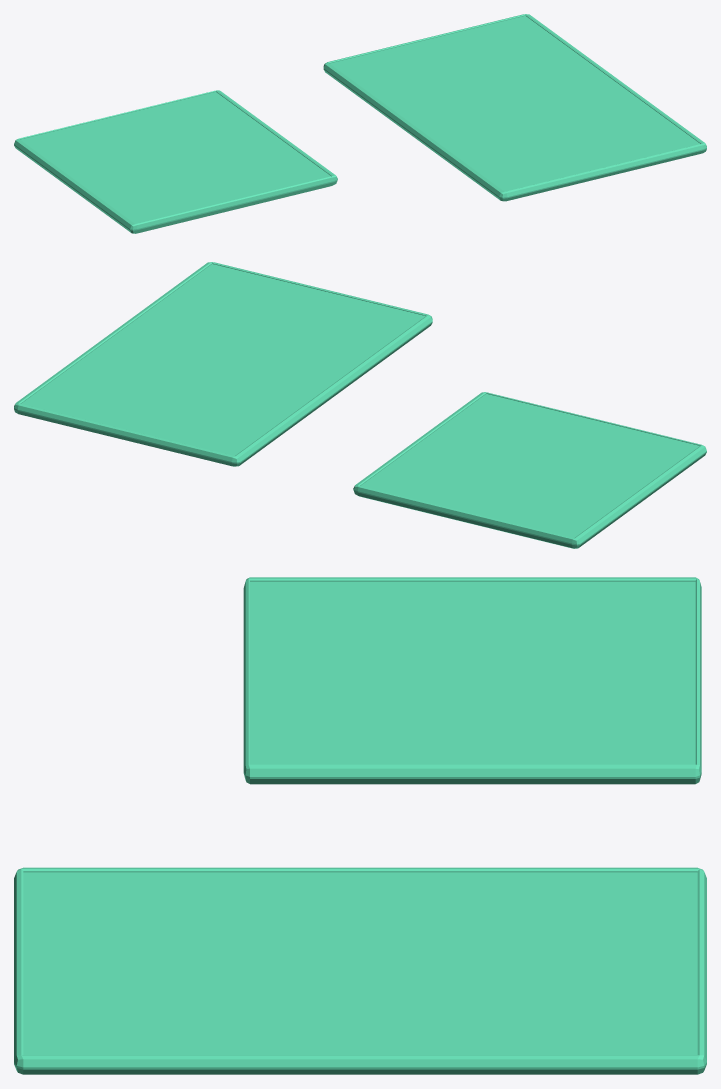
File: BathMat.fbx
The picture shows the model from 3 angles, top to bottom: view 1: azimuth 30°, elevation 25°; view 2: azimuth 150°, elevation 25°; view 3: azimuth 270°, elevation 25°; orthographic projection. The views are drawn at different scales.
Visible parts, largest first — view 1: BathMat, BathMat square; view 2: BathMat, BathMat square; view 3: BathMat, BathMat square.
Part boxes in pixels (x1,y1,x2,y2): BathMat: [323, 14, 706, 201]; BathMat square: [14, 90, 337, 233]; BathMat: [14, 262, 432, 466]; BathMat square: [353, 392, 706, 548]; BathMat: [14, 867, 706, 1074]; BathMat square: [243, 577, 701, 784].
Bounding box in the file's own units: 497 × 9.32 × 300.
